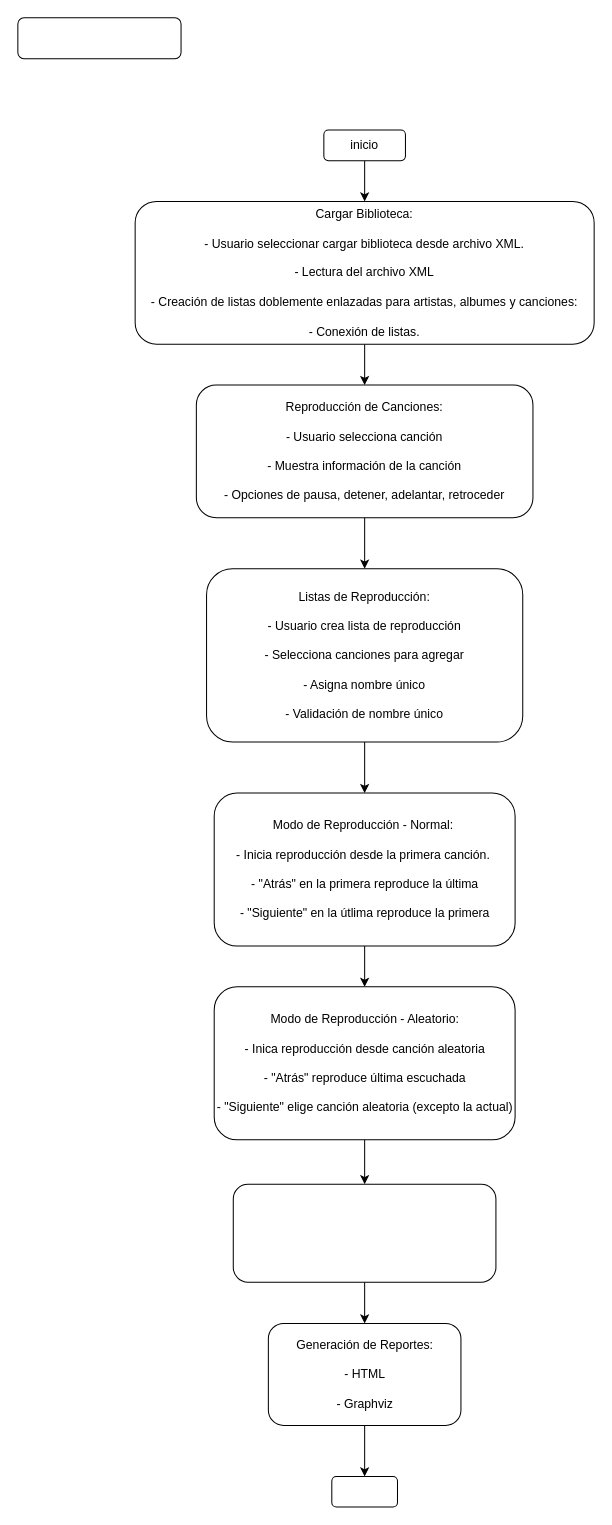
Some shapes in this 612 by 1525 pixel diagram are drawn without their labels. Each missing label, with the box of its shape:
Diagrama de Actividades: (17, 17, 181, 59)
Fin: (331, 1475, 397, 1507)
Guardado de Listas de Reproducción: - Usuario guarda listas en archivo XML: (232, 1183, 496, 1282)
